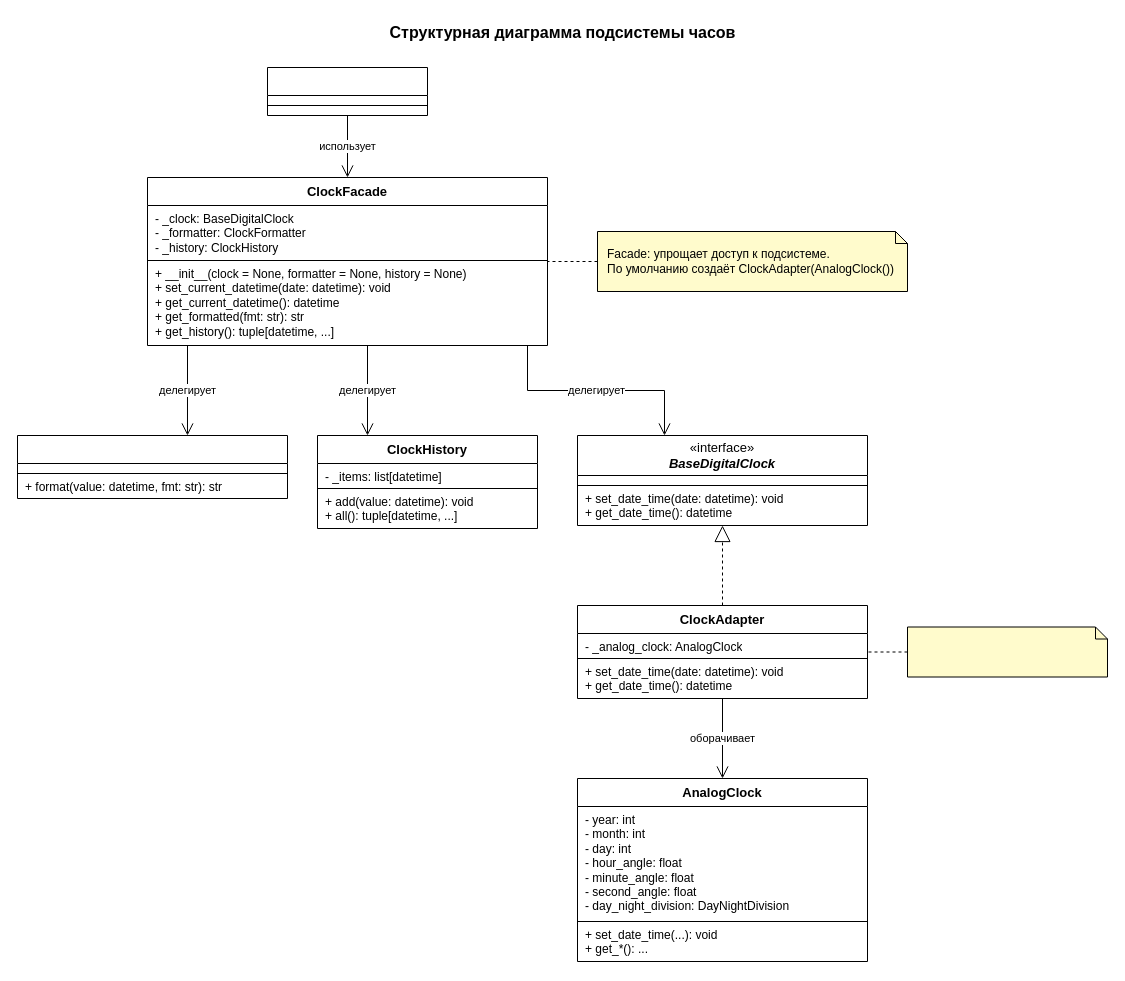
Image size: 1125x981. Some labels were removed from this diagram. Here are the shapes that lost their labels. From the top down, the box of each, then its label:
(266, 66, 428, 116): Client
(16, 434, 288, 498): ClockFormatter
(906, 626, 1108, 677): Adapter: переводит datetime <-> углы стрелок
